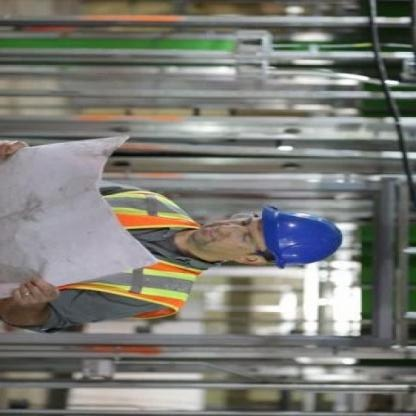blue: (255, 202, 348, 274)
vest: (62, 182, 208, 326)
